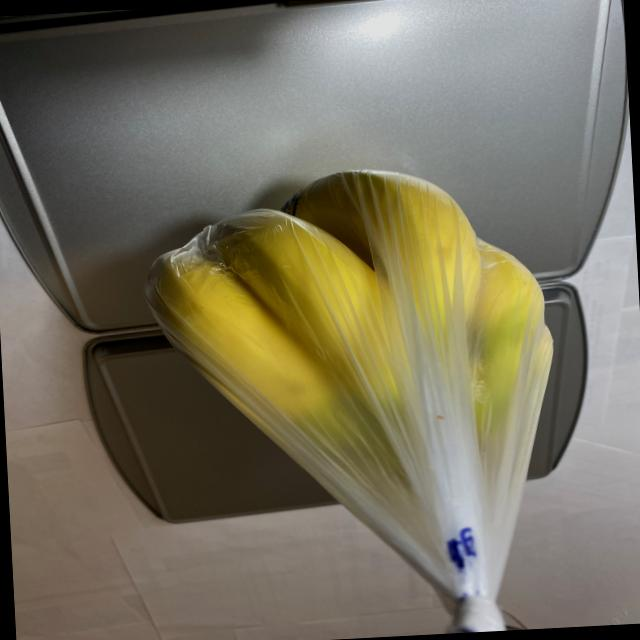banana: (132, 156, 562, 492)
